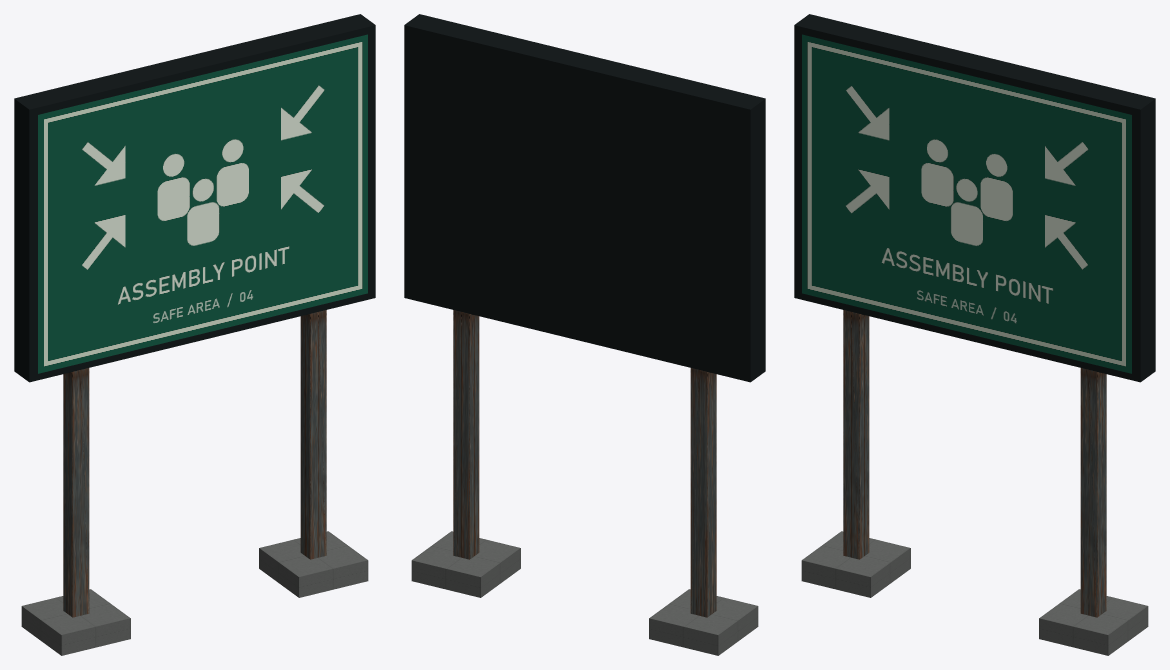
Rendered from AssemblyStation.obj.
3 renders of one model, left to right at view 1: azimuth 30°, elevation 25°; view 2: azimuth 150°, elevation 25°; view 3: azimuth 330°, elevation 25°, orthographic.
Visible parts, largest first — view 1: AssemblyStation; view 2: AssemblyStation; view 3: AssemblyStation.
Boxes of the visible parts, box(x1,y1,x2,y2) form: AssemblyStation: box(14, 14, 375, 655); AssemblyStation: box(404, 14, 765, 655); AssemblyStation: box(794, 14, 1155, 655).
Bounding box in the file's own units: 2.1 × 3.14 × 0.42.
Materials: 4 (3 with a texture image).
